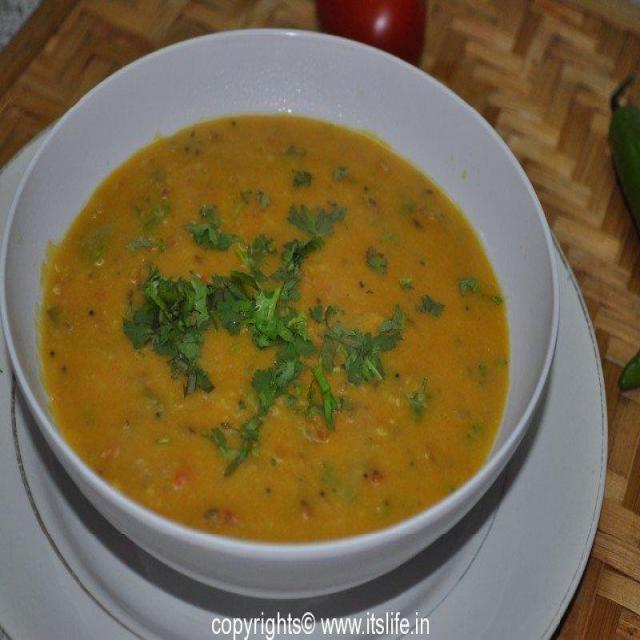dal: (47, 49, 501, 542)
